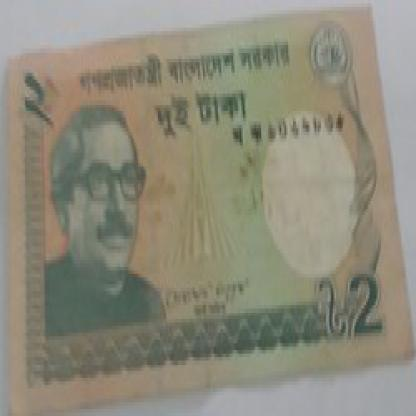two taka: (146, 94, 266, 149), (15, 66, 70, 142)
